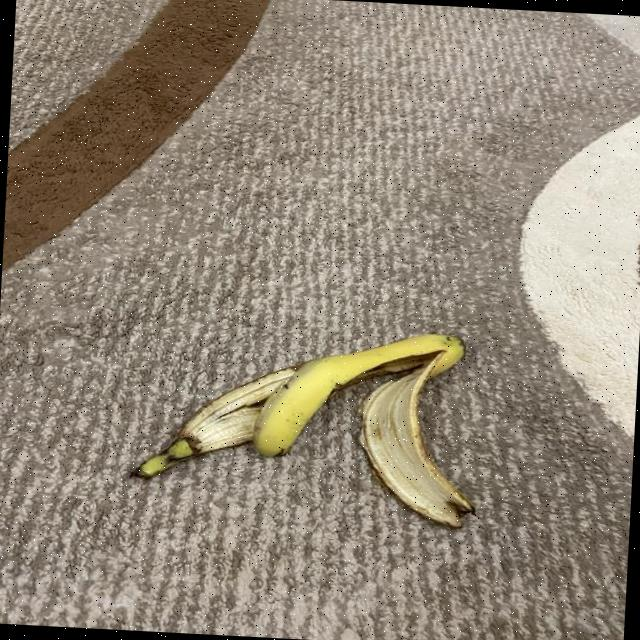banana-peel: (128, 316, 486, 530), (250, 322, 466, 468), (354, 348, 484, 530), (128, 356, 298, 486)
